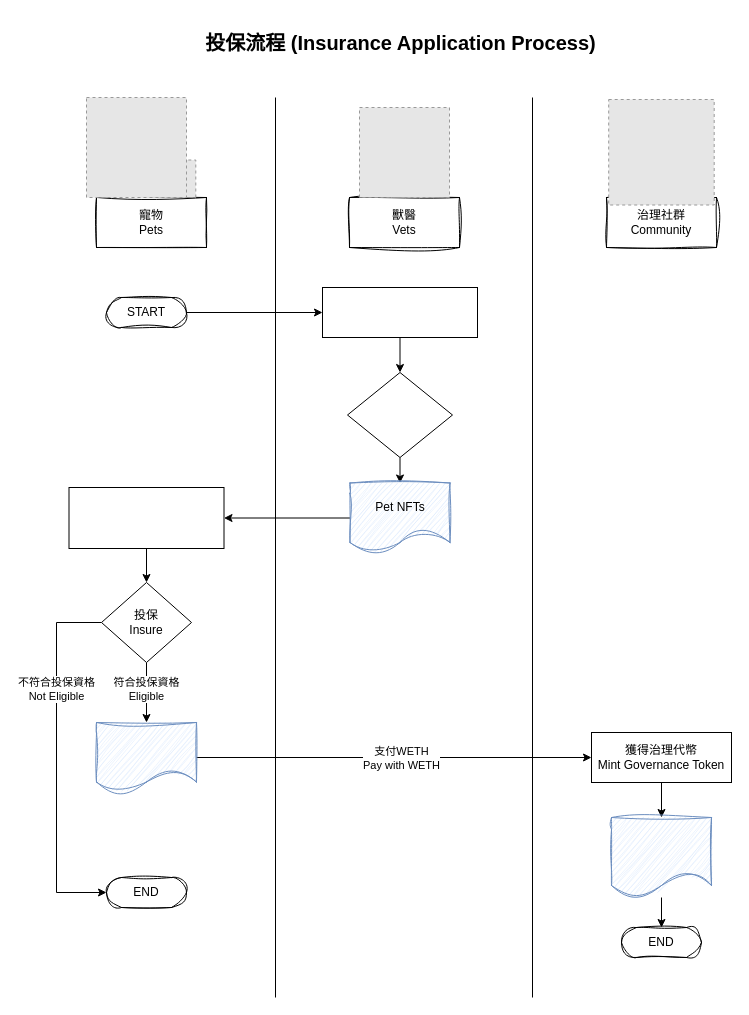
Image size: 749x1015. Some labels were removed from this diagram. Grey dashed boxes stand in for pictures. Here are the shapes that lost their labels. From the top down, the centre of each, then its label:
At pixel 400 312: "新寵物植入晶片 Microchipping a New Pet".
At pixel 399 415: "植入晶片Microchipped".
At pixel 146 517: "選擇投保項目 Choosing Insurance Options".
At pixel 146 757: "Insure Record".
At pixel 661 857: "Governance Token".
